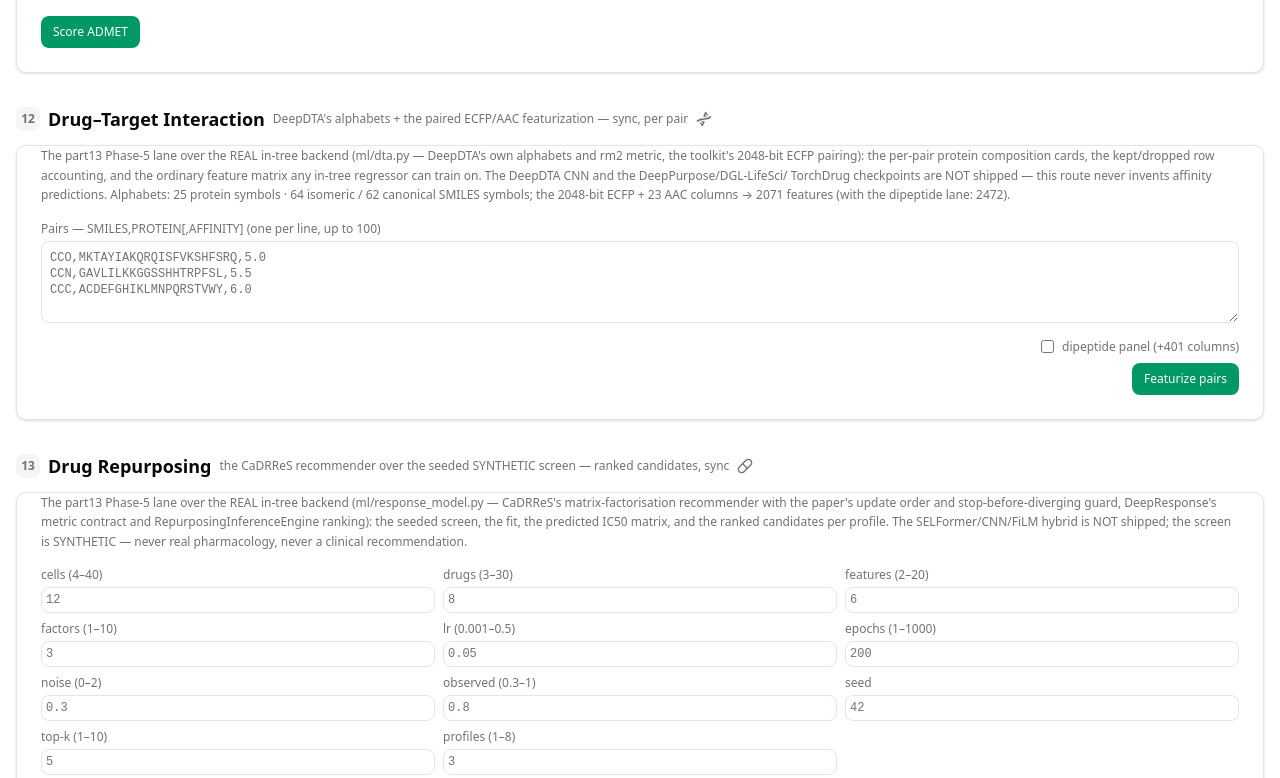
Test: the drug–target interaction lane of the Machine Learning workspace › featurizes the textarea's pairs and renders the per-pair cards
The width and height of the screenshot is (1280, 778).
(page scrolled)
Click the button "Featurize pairs" at (1186, 379), box [1132,363,1239,395]
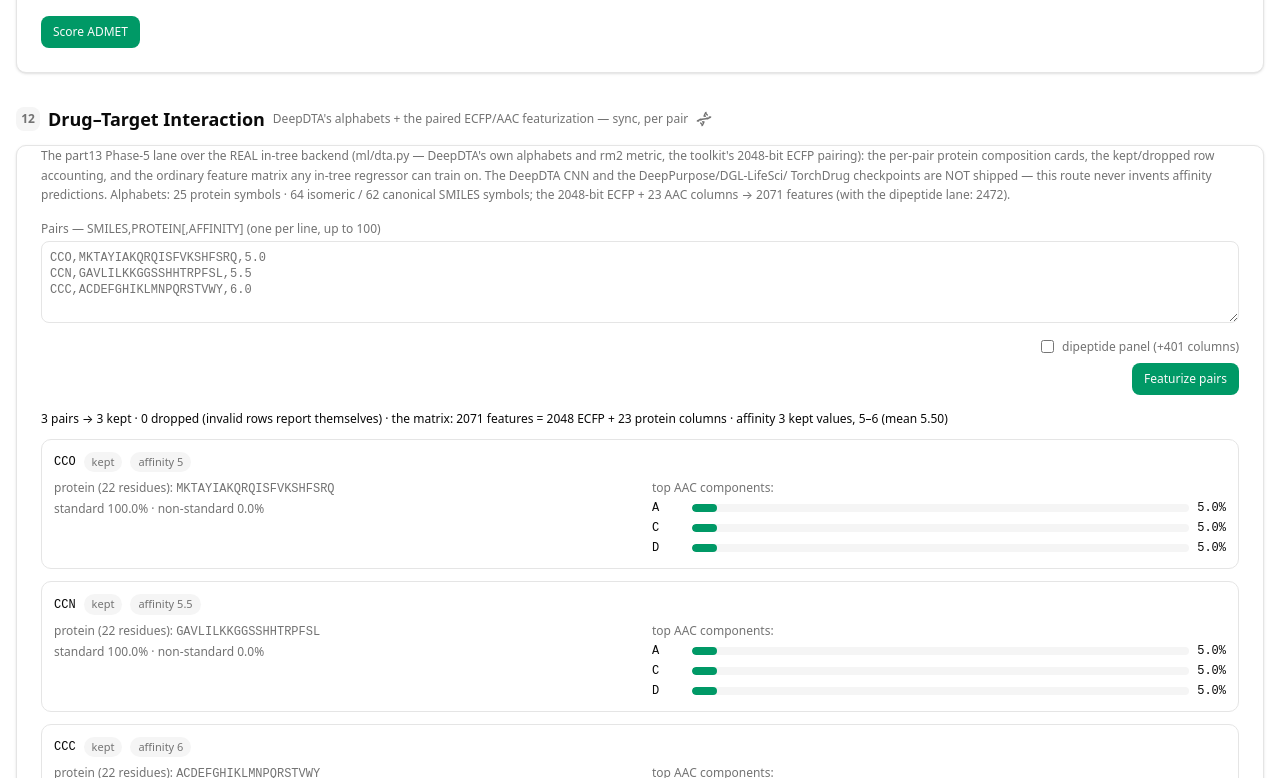
Result: the text "the matrix: 2071 features = 2048 ECFP + 23" is shown at [41,410,948,427]
Result: the text "kept" is shown 3 times at [84,452,122,472]; [84,594,122,615]; [84,737,122,757]
